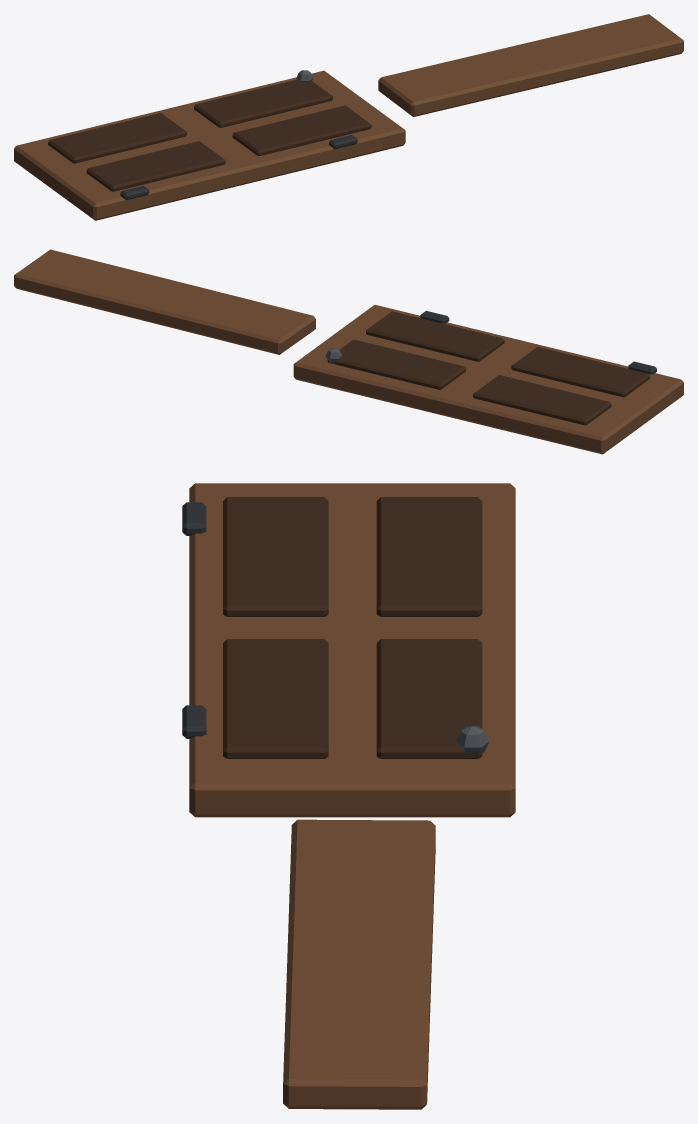
The model's file is door3.glb.
The picture shows the model from 3 angles, top to bottom: view 1: azimuth 30°, elevation 25°; view 2: azimuth 150°, elevation 25°; view 3: azimuth 270°, elevation 25°; orthographic projection. The views are drawn at different scales.
Parts seen in each view (by area): view 1: Door; view 2: Door; view 3: Door.
Boxes of the visible parts, x1,y1,x2,y2 form: Door: (14, 14, 683, 220); Door: (14, 249, 683, 454); Door: (182, 483, 515, 1109).
Bounding box in the file's own units: 2.95 × 0.145 × 0.695.
